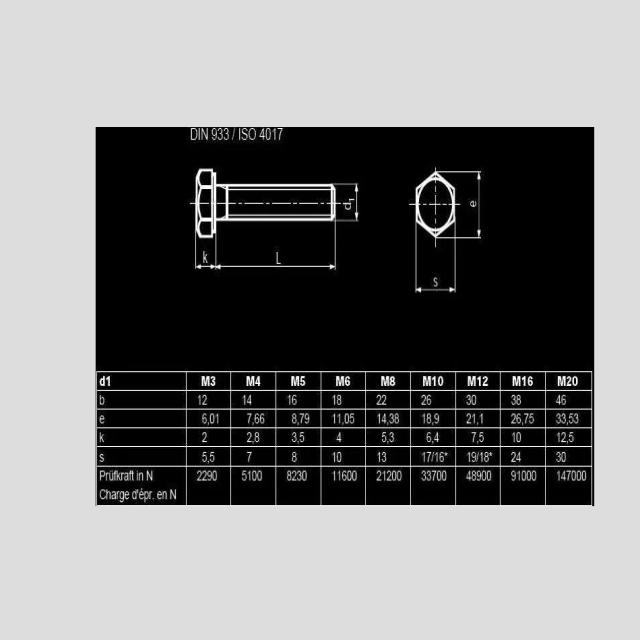marking_line: (215, 235, 337, 271), (414, 238, 457, 293), (456, 171, 482, 242), (337, 183, 359, 223), (195, 239, 217, 271)
numeric: (274, 251, 283, 266), (223, 127, 230, 141), (202, 250, 208, 264), (344, 376, 351, 388), (441, 470, 448, 482), (484, 450, 490, 464), (527, 375, 534, 387), (202, 431, 208, 444), (246, 452, 252, 465), (212, 128, 218, 140), (266, 128, 272, 140), (201, 469, 207, 481), (212, 470, 218, 482), (246, 413, 252, 425), (291, 413, 297, 425), (298, 412, 304, 424), (291, 432, 297, 444), (291, 450, 297, 462), (381, 431, 387, 443), (434, 431, 440, 443), (259, 126, 264, 140), (272, 126, 277, 140), (254, 376, 261, 386), (331, 412, 336, 426), (300, 376, 306, 387), (202, 395, 208, 406), (292, 395, 298, 406), (304, 413, 310, 424), (296, 470, 302, 481), (336, 432, 342, 443), (376, 395, 382, 406), (388, 413, 394, 424), (381, 452, 387, 463), (376, 471, 382, 482), (466, 413, 472, 424), (573, 375, 579, 386), (561, 413, 567, 424), (278, 127, 283, 140), (202, 450, 207, 463), (337, 451, 342, 464), (347, 469, 352, 482), (350, 412, 355, 425), (437, 469, 442, 482), (211, 375, 216, 387), (390, 376, 396, 386), (202, 414, 207, 426), (241, 395, 246, 407), (247, 393, 252, 405), (246, 431, 251, 443), (255, 432, 260, 444), (254, 413, 259, 425), (344, 413, 349, 425), (394, 414, 400, 424), (389, 432, 395, 442), (386, 470, 391, 482), (397, 470, 402, 482), (420, 395, 426, 405), (426, 393, 431, 405), (426, 412, 431, 424), (427, 431, 432, 443), (422, 470, 427, 482), (483, 375, 488, 387), (471, 431, 476, 443), (480, 431, 485, 443), (521, 375, 526, 387), (516, 394, 521, 406), (511, 413, 516, 425), (516, 432, 522, 442), (556, 394, 561, 406), (566, 376, 572, 386), (561, 394, 566, 406), (561, 451, 566, 463), (287, 393, 291, 407), (337, 469, 341, 483), (210, 414, 215, 425), (210, 452, 215, 463), (207, 470, 212, 481), (252, 471, 257, 482), (299, 431, 304, 442), (291, 470, 296, 481), (331, 471, 336, 482), (353, 470, 358, 481), (382, 395, 387, 406), (382, 413, 387, 424), (392, 470, 397, 481), (432, 376, 437, 387), (434, 413, 439, 424), (440, 452, 445, 463), (431, 470, 436, 481), (477, 376, 482, 387), (466, 394, 471, 405), (466, 470, 471, 481), (472, 452, 477, 463), (529, 413, 534, 424), (512, 452, 517, 463), (511, 470, 516, 481), (526, 470, 531, 481), (531, 470, 536, 481), (556, 414, 561, 425), (556, 452, 561, 463), (574, 413, 579, 424), (561, 432, 566, 443), (566, 470, 571, 481), (577, 470, 582, 481), (582, 470, 587, 481), (347, 197, 356, 203), (218, 128, 222, 141), (377, 450, 381, 463), (197, 470, 202, 480), (438, 376, 443, 386), (472, 395, 477, 405), (477, 471, 482, 481), (517, 413, 522, 423), (569, 432, 574, 442), (561, 471, 566, 481), (571, 471, 576, 481), (198, 393, 202, 405), (248, 468, 252, 480), (260, 413, 264, 425), (332, 394, 336, 406), (338, 413, 342, 425), (337, 394, 341, 406), (377, 413, 381, 425), (557, 470, 561, 482), (216, 413, 220, 424), (242, 470, 246, 481), (258, 470, 262, 481), (287, 470, 291, 481), (303, 471, 307, 482), (332, 451, 336, 462), (342, 471, 346, 482), (382, 471, 386, 482), (422, 414, 426, 425), (427, 452, 431, 463), (435, 452, 439, 463), (427, 470, 431, 481), (472, 413, 476, 424), (480, 413, 484, 424), (467, 452, 471, 463), (472, 470, 476, 481), (482, 470, 486, 481), (487, 470, 491, 481), (479, 452, 483, 463), (511, 394, 515, 405), (524, 413, 528, 424), (512, 432, 516, 443), (522, 470, 526, 481), (557, 432, 561, 443), (569, 413, 573, 424), (431, 452, 435, 462), (517, 471, 521, 481), (517, 452, 521, 462), (423, 452, 426, 463), (107, 376, 110, 386)
special_symbol: (489, 452, 492, 456)
